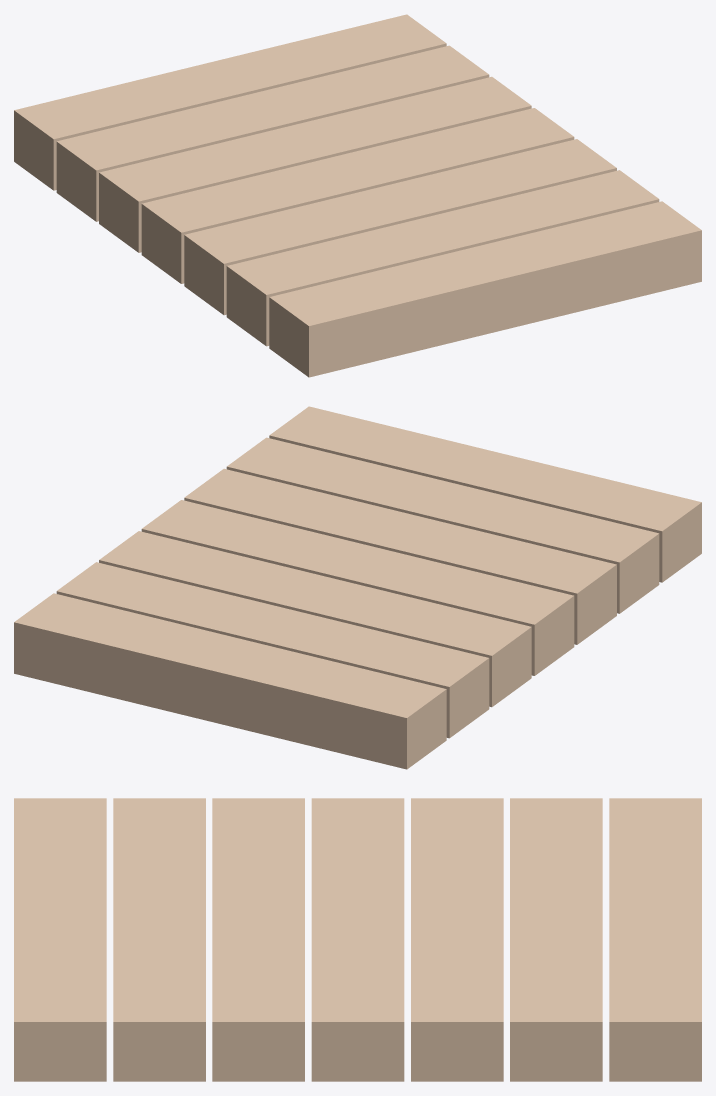
The model's file is bridge.glb.
3 views of the same model, one above another, from view 1: azimuth 30°, elevation 25°; view 2: azimuth 150°, elevation 25°; view 3: azimuth 270°, elevation 25° (orthographic). The views are drawn at different scales.
Visible parts, largest first — view 1: plank6, plank5, plank3, plank1, plank2, plank0, plank4; view 2: plank0, plank1, plank3, plank5, plank4, plank6, plank2; view 3: plank3, plank0, plank1, plank2, plank4, plank5, plank6.
Boxes of the visible parts, box(x1,y1,x2,y2) form: plank6: box(269, 201, 701, 377); plank5: box(226, 170, 659, 346); plank3: box(141, 108, 574, 283); plank1: box(56, 45, 489, 221); plank2: box(99, 76, 531, 252); plank0: box(14, 14, 446, 190); plank4: box(184, 139, 616, 315); plank0: box(14, 593, 446, 769); plank1: box(56, 562, 489, 738); plank3: box(141, 500, 574, 675); plank5: box(226, 437, 659, 613); plank4: box(184, 468, 616, 644); plank6: box(269, 406, 701, 582); plank2: box(99, 531, 531, 707); plank3: box(311, 798, 404, 1081); plank0: box(609, 798, 701, 1081); plank1: box(510, 798, 602, 1081); plank2: box(411, 798, 503, 1081); plank4: box(212, 798, 304, 1081); plank5: box(113, 798, 205, 1081); plank6: box(14, 798, 106, 1081).
Size of the model in its own units: 0.8 by 0.1 by 1.04.
